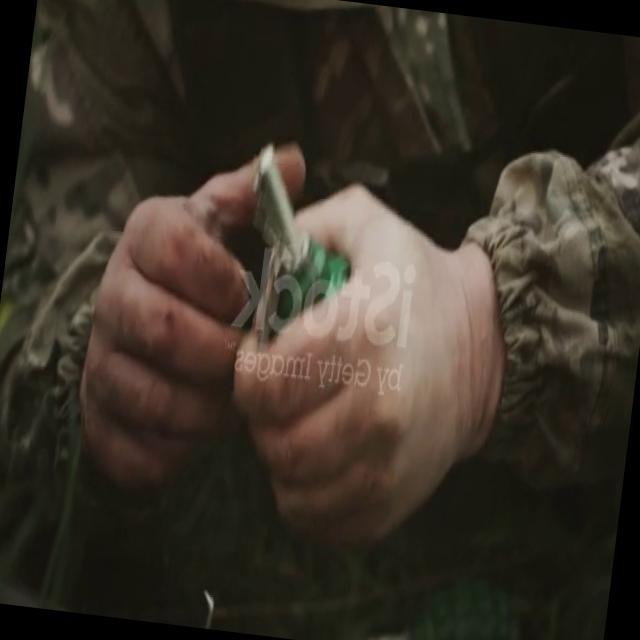grenade: (235, 140, 358, 352)
